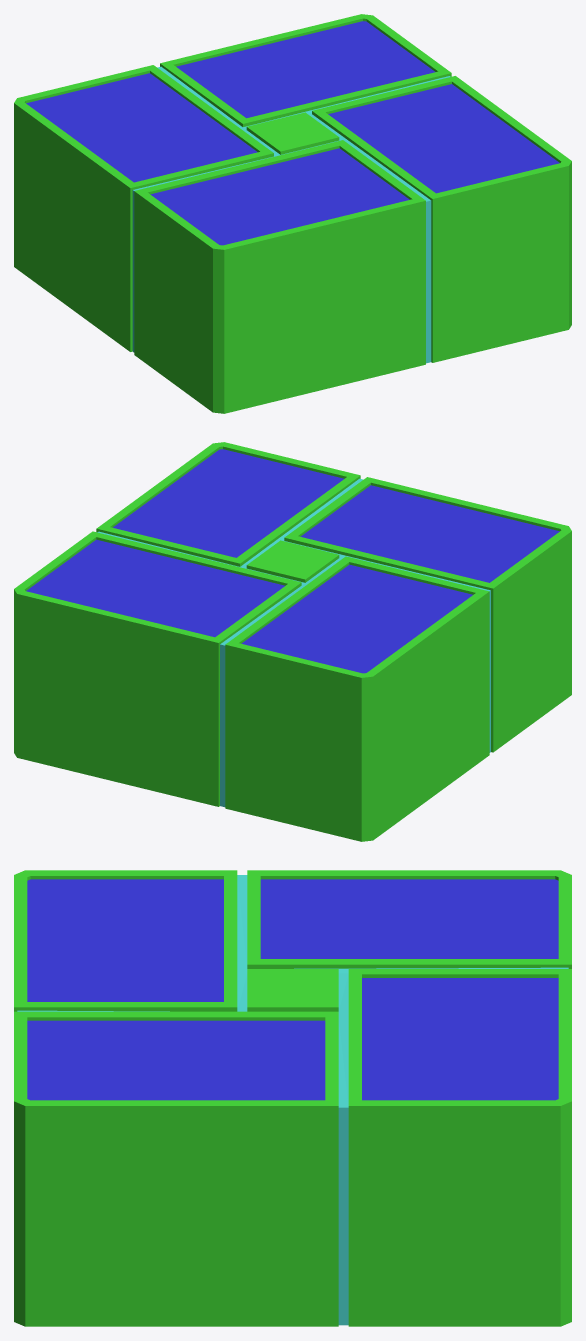
File: Table_04_B.fbx
The picture shows the model from 3 angles, top to bottom: view 1: azimuth 30°, elevation 25°; view 2: azimuth 150°, elevation 25°; view 3: azimuth 270°, elevation 25°; orthographic projection. The views are drawn at different scales.
Parts seen in each view (by area): view 1: Table_04_B; view 2: Table_04_B; view 3: Table_04_B.
Part boxes in pixels (x1,y1,x2,y2): Table_04_B: [14, 14, 571, 413]; Table_04_B: [14, 442, 571, 841]; Table_04_B: [14, 870, 571, 1326].
Size of the model in its own units: 140 by 60.96 by 140.
